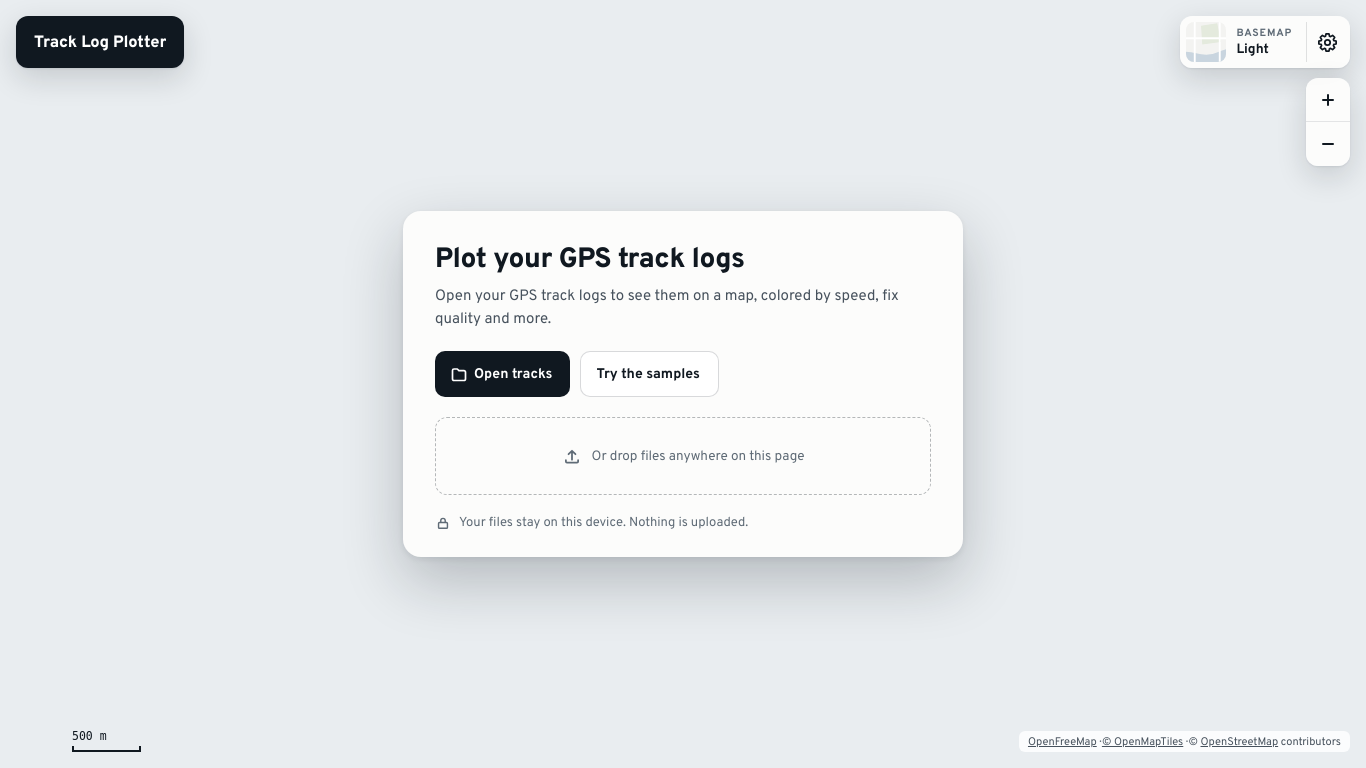
Test case: empty state › doesn't say which file types it reads, in either language
Click the button named "Options": click(1265, 42) [1180,16,1350,68]
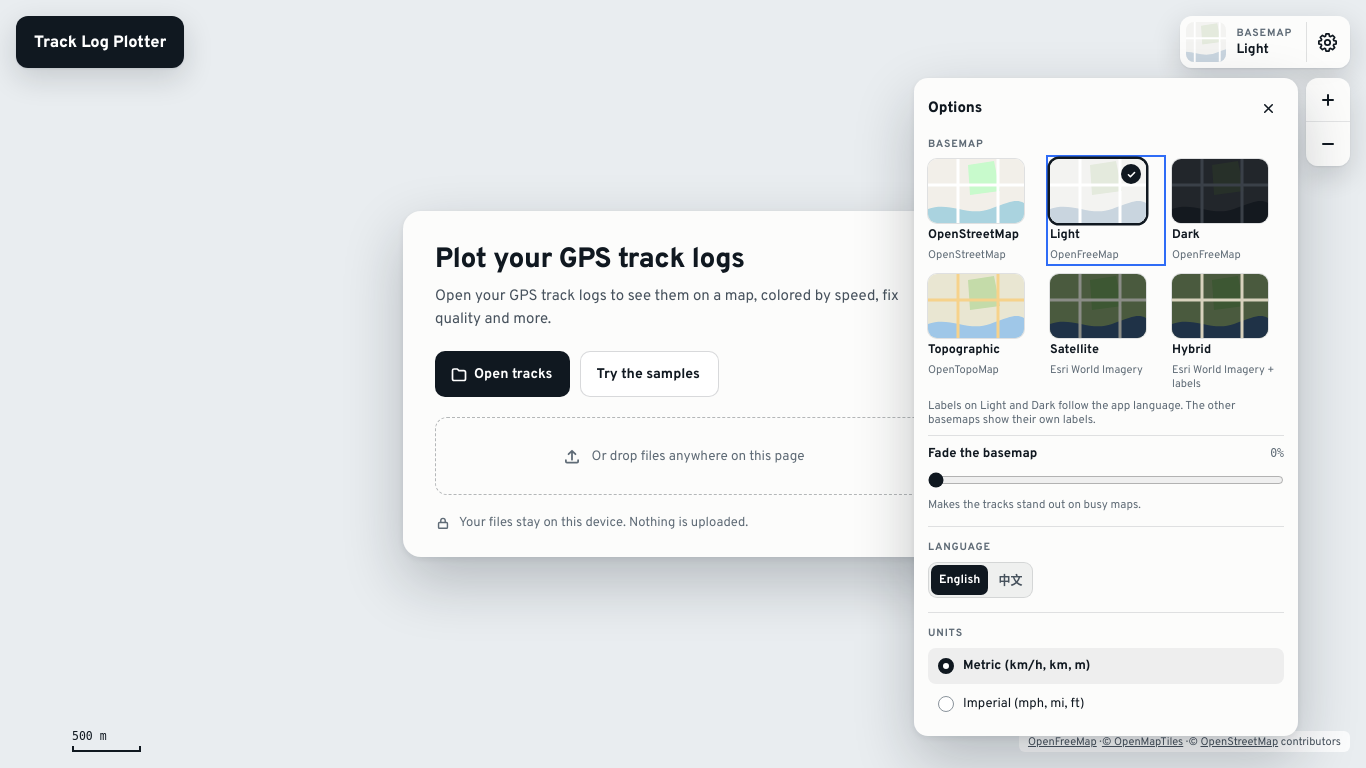
Click the button "中文": click(1010, 580) [990,565,1030,595]
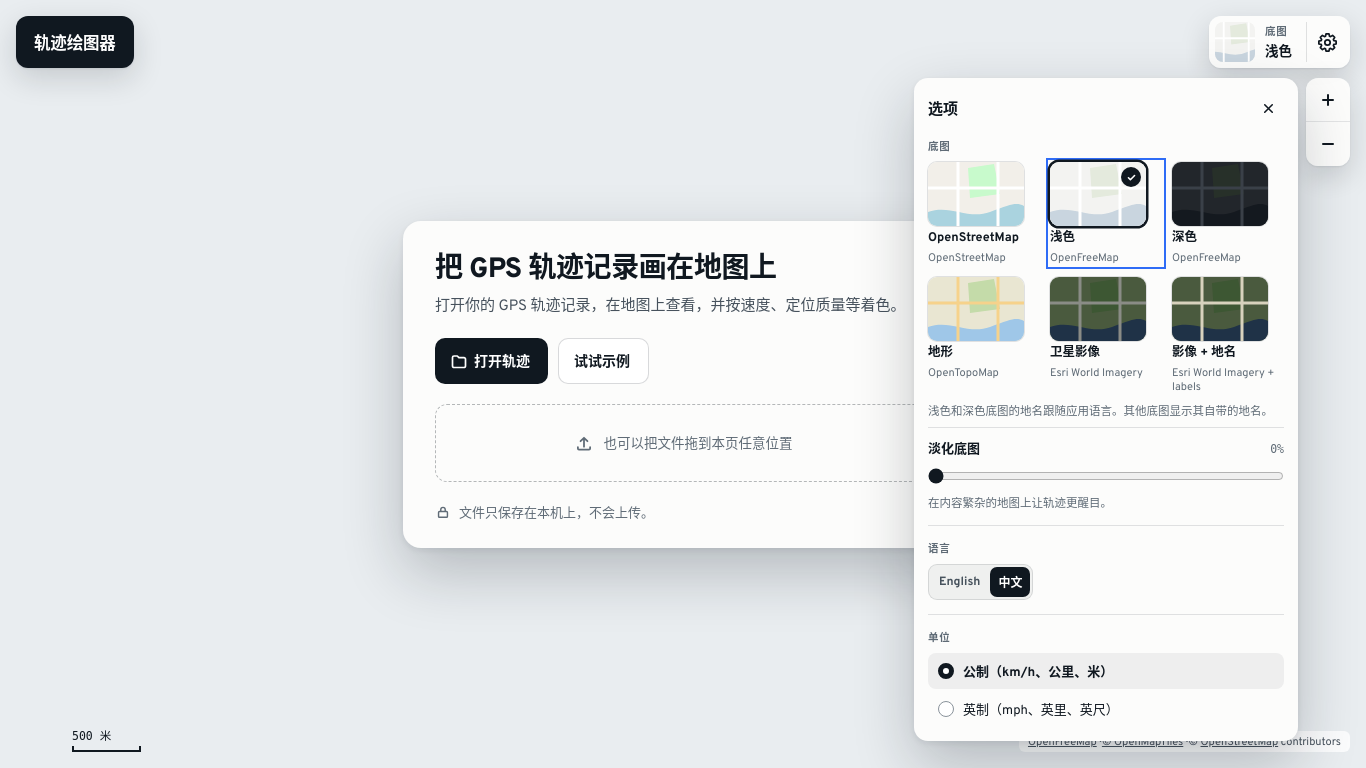
Expected: the element with class "empty-card" shows "打开你的 GPS 轨迹记录", [435,296,906,316]
